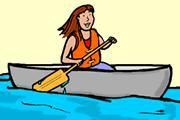boat: (5, 55, 173, 103)
person: (56, 4, 117, 71)
